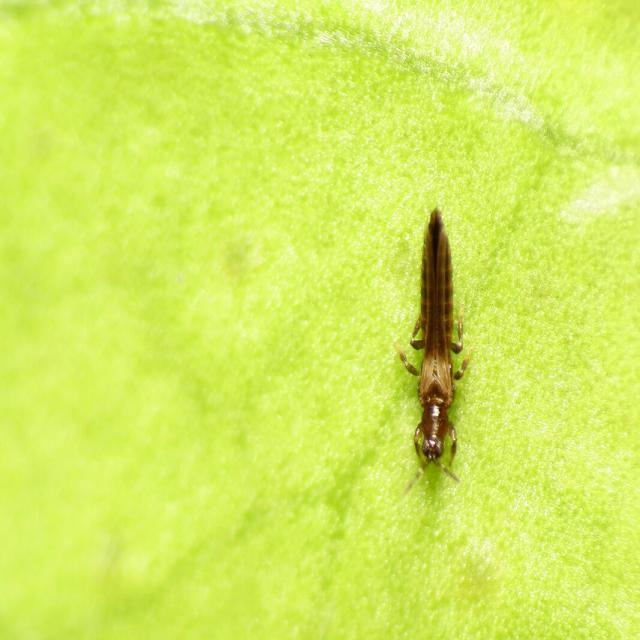Thrip-Adult-: (375, 191, 486, 509)
